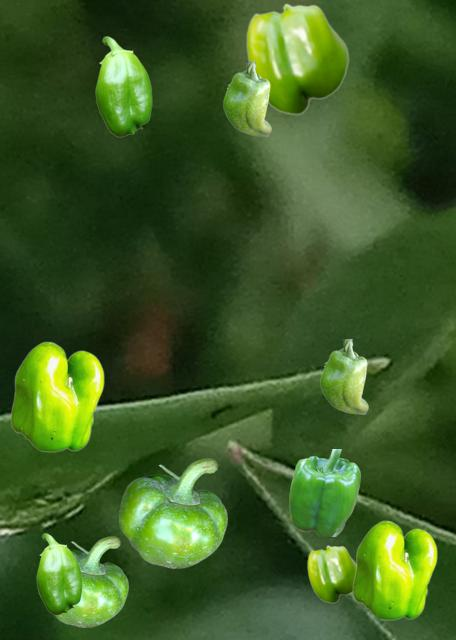bell_pepper: (119, 458, 226, 567), (246, 3, 348, 114), (10, 341, 103, 451), (352, 520, 436, 619), (54, 536, 127, 626), (289, 449, 359, 535), (95, 36, 151, 136), (36, 533, 81, 614), (320, 339, 367, 413), (223, 61, 270, 135), (307, 545, 355, 602)
